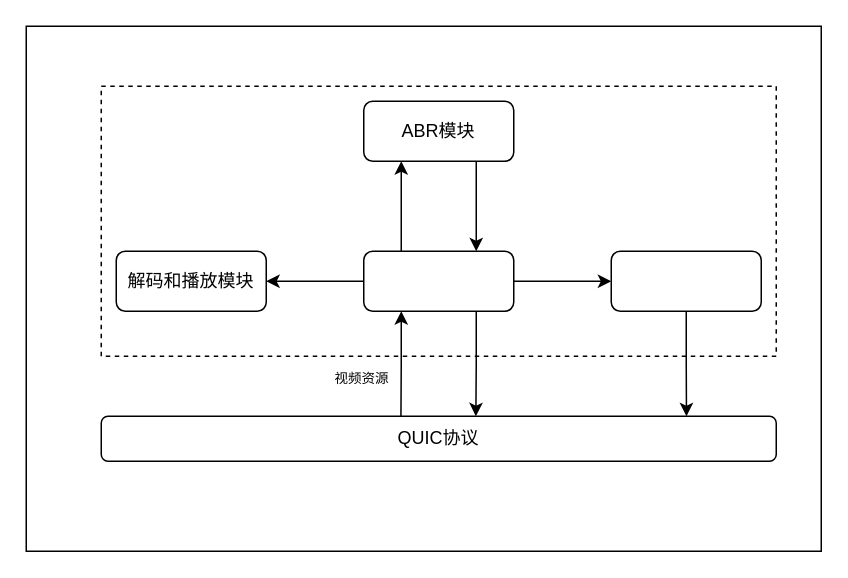
This 848x578 diagram has some shape labels left out. The shapes that lost their labels are listed below. From the top down, each one's box as (x1, y1, x2, y2) in pixels, then its label:
(362, 250, 514, 311): 视频下载模块
(610, 250, 761, 311): 效用函数模块
